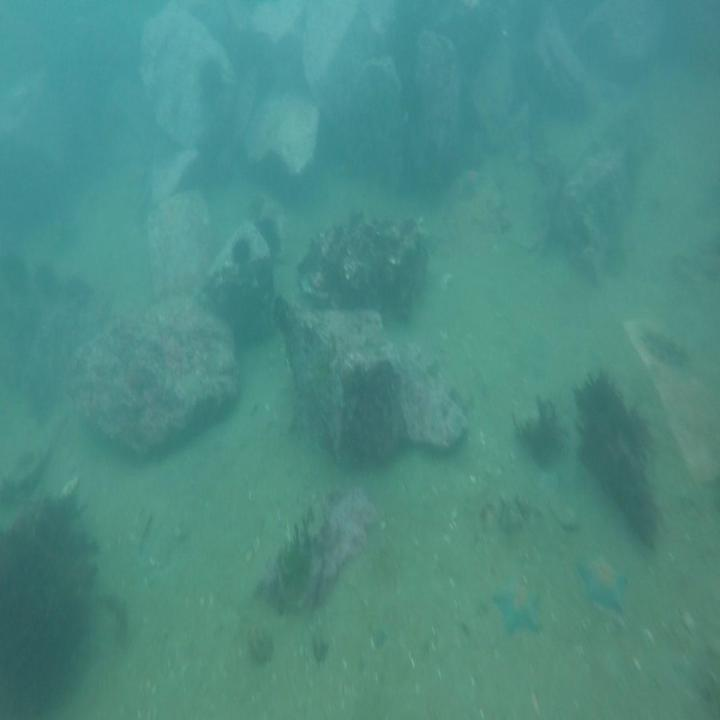echinus: (193, 57, 225, 101), (6, 251, 28, 302), (32, 258, 57, 301), (261, 219, 282, 260), (228, 233, 252, 268)
holothurian: (640, 321, 692, 371), (28, 312, 53, 377), (200, 288, 223, 320)
starfish: (574, 546, 630, 622), (490, 574, 546, 642), (455, 165, 484, 195)
